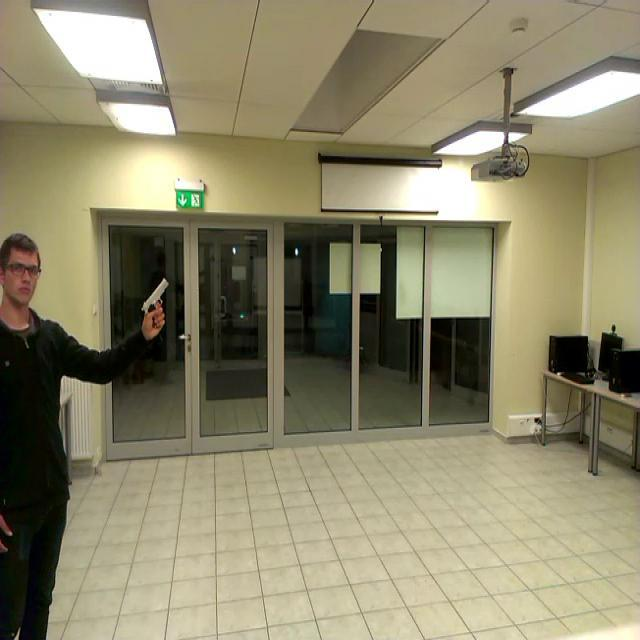Gun: (142, 278, 170, 328)
